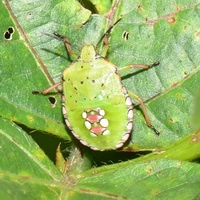insect: (42, 44, 150, 150)
